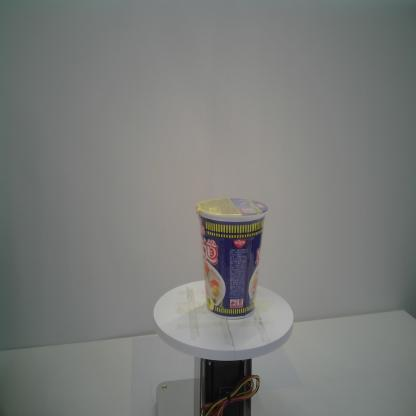Instant Noodles: (194, 195, 270, 322)
